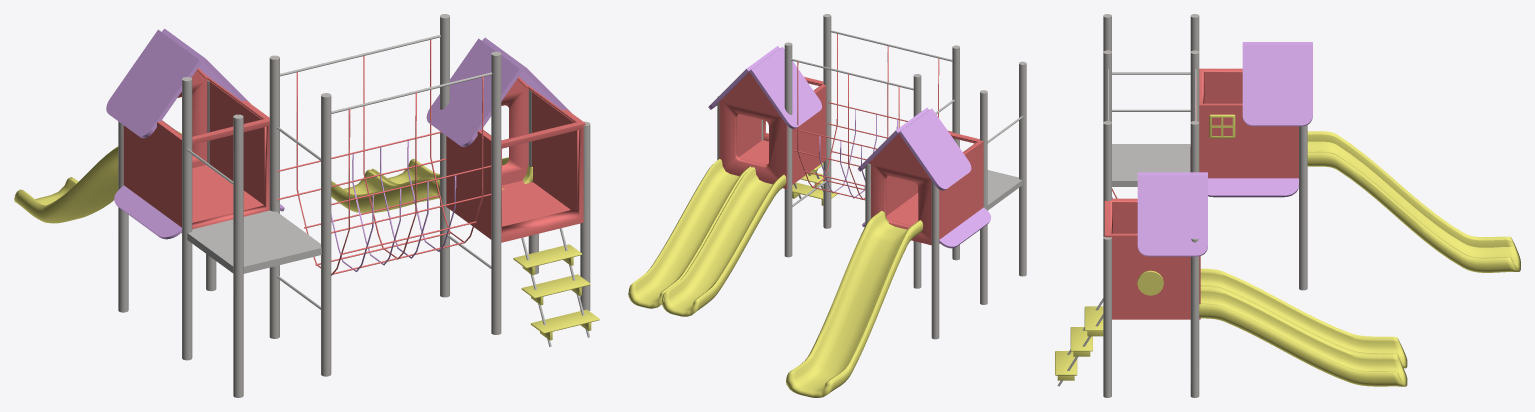
File: Tobogan_Completo.fbx
3 views of the same model, side by side, from view 1: azimuth 30°, elevation 25°; view 2: azimuth 150°, elevation 25°; view 3: azimuth 270°, elevation 25° (orthographic). The views are drawn at different scales.
Visible parts, largest first — view 1: Tobogan.092, Tobogan.008, Tobogan.005, Tobogan.083, Tobogan.090, Tobogan.019, Tobogan.058, Tobogan.043, Tobogan.049, Tobogan.055, Tobogan.001, Tobogan.040 (+17 smaller); view 2: Tobogan.019, Tobogan.092, Tobogan.008, Tobogan.001, Tobogan.003, Tobogan.005, Tobogan.090, Tobogan.058, Tobogan.049, Tobogan.046, Tobogan.064, Tobogan.055 (+7 smaller); view 3: Tobogan.019, Tobogan.008, Tobogan.003, Tobogan.092, Tobogan.006, Tobogan.091, Tobogan.001, Tobogan.083, Tobogan.007, Tobogan.061, Tobogan.037, Tobogan.052 (+9 smaller).
Part boxes in pixels (x1,y1,x2,y2): Tobogan.092: (446, 77, 585, 242); Tobogan.008: (123, 68, 269, 232); Tobogan.005: (106, 29, 201, 138); Tobogan.083: (187, 210, 321, 273); Tobogan.090: (426, 38, 522, 146); Tobogan.019: (14, 131, 181, 223); Tobogan.058: (233, 117, 243, 397); Tobogan.043: (321, 96, 331, 376); Tobogan.049: (491, 54, 501, 334); Tobogan.055: (182, 79, 192, 360); Tobogan.001: (331, 169, 439, 213); Tobogan.040: (269, 58, 279, 338); Tobogan.019: (786, 210, 923, 397); Tobogan.092: (719, 72, 826, 188); Tobogan.008: (868, 131, 983, 245); Tobogan.001: (662, 167, 786, 316); Tobogan.003: (628, 159, 751, 308); Tobogan.005: (898, 108, 971, 190); Tobogan.090: (749, 46, 821, 128); Tobogan.058: (1019, 64, 1026, 276); Tobogan.049: (823, 15, 831, 228); Tobogan.046: (784, 44, 792, 257); Tobogan.064: (931, 181, 939, 339); Tobogan.055: (980, 92, 987, 304); Tobogan.019: (1307, 131, 1520, 272); Tobogan.008: (1199, 68, 1298, 178); Tobogan.003: (1190, 287, 1407, 386); Tobogan.092: (1104, 198, 1200, 319); Tobogan.006: (1242, 45, 1312, 126); Tobogan.091: (1137, 175, 1207, 256); Tobogan.001: (1200, 268, 1407, 368); Tobogan.083: (1112, 144, 1190, 186); Tobogan.007: (1208, 178, 1298, 197); Tobogan.061: (1299, 125, 1307, 290); Tobogan.037: (1190, 239, 1199, 397); Tobogan.052: (1103, 238, 1111, 397).
Bounding box in the file's own units: 40.59 × 28.66 × 50.97.
